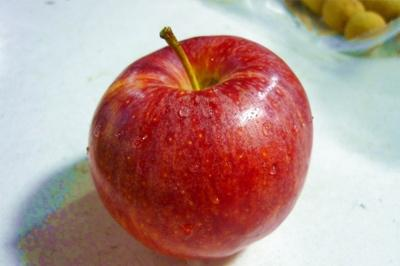apple: (78, 22, 317, 255)
